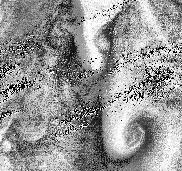CE: (108, 103, 167, 152)
